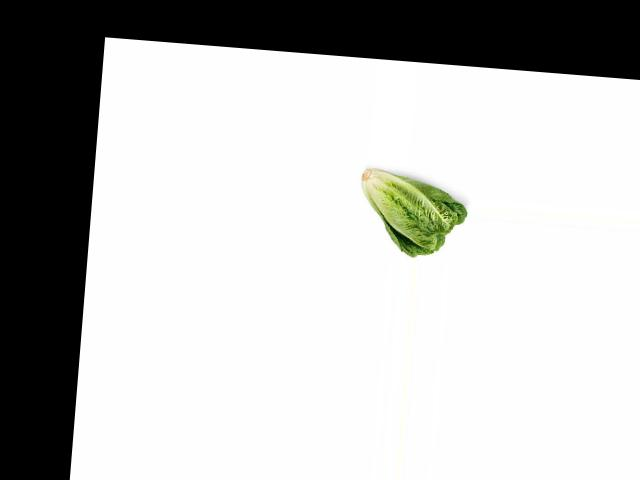lettuce: (353, 165, 469, 260)
